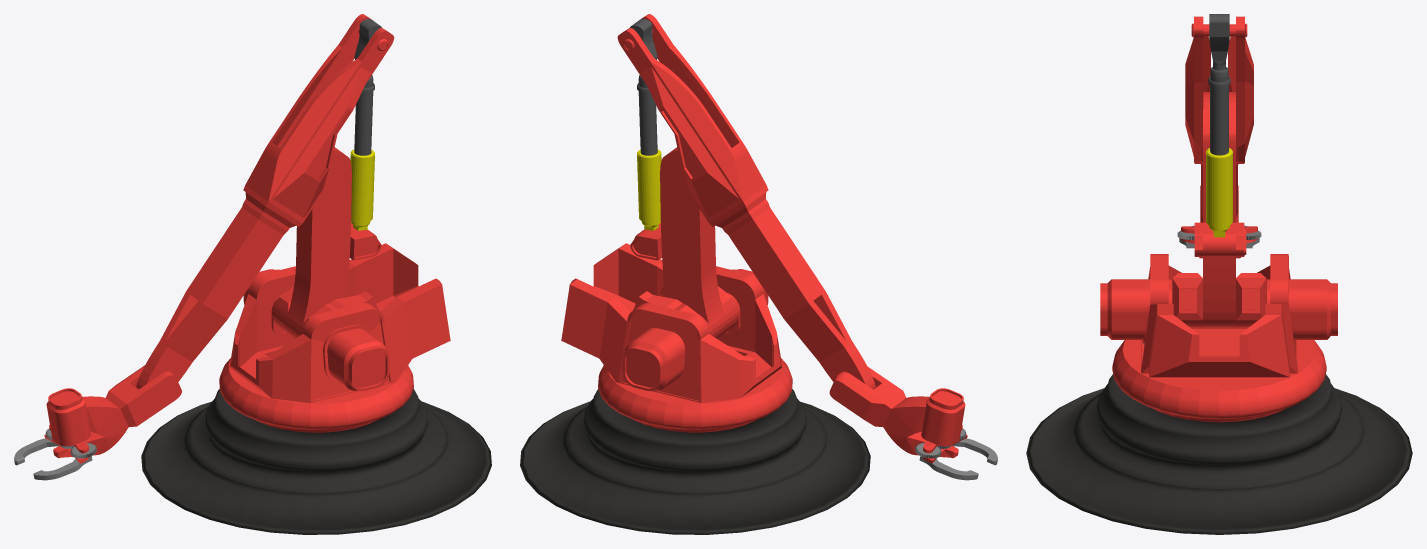
The picture shows the model from 3 angles, left to right: view 1: azimuth 30°, elevation 25°; view 2: azimuth 150°, elevation 25°; view 3: azimuth 270°, elevation 25°; orthographic projection. The views are drawn at different scales.
Parts seen in each view (by area): view 1: Platfrom.1, Platfrom 2, Tangan 2, Tangan 1, Grab.1, Hydrolic.1, Hydrolic.2, gear; view 2: Platfrom.1, Platfrom 2, Tangan 2, Tangan 1, Grab.1, Hydrolic.1, Hydrolic.2, gear.001; view 3: Platfrom.1, Platfrom 2, Tangan 1, Tangan 2, Hydrolic.2, Hydrolic.1, Grab.1.
Boxes of the visible parts, <box> form: Platfrom.1: <box>141,388,491,534</box>; Platfrom 2: <box>219,243,450,432</box>; Tangan 2: <box>136,14,394,389</box>; Tangan 1: <box>272,147,381,338</box>; Grab.1: <box>44,365,181,463</box>; Hydrolic.1: <box>350,149,374,230</box>; Hydrolic.2: <box>354,19,381,155</box>; gear: <box>33,442,96,480</box>; Platfrom.1: <box>520,389,870,534</box>; Platfrom 2: <box>561,243,792,432</box>; Tangan 2: <box>617,14,875,389</box>; Tangan 1: <box>630,147,739,338</box>; Grab.1: <box>829,366,967,463</box>; Hydrolic.1: <box>637,149,661,230</box>; Hydrolic.2: <box>630,19,657,155</box>; gear.001: <box>915,442,978,480</box>; Platfrom.1: <box>1026,374,1412,534</box>; Platfrom 2: <box>1100,254,1337,422</box>; Tangan 1: <box>1172,92,1266,327</box>; Tangan 2: <box>1185,16,1253,217</box>; Hydrolic.2: <box>1208,14,1230,155</box>; Hydrolic.1: <box>1206,148,1232,237</box>; Grab.1: <box>1180,185,1257,258</box>.
Bounding box in the file's own units: 9.81 × 8.96 × 6.72.
